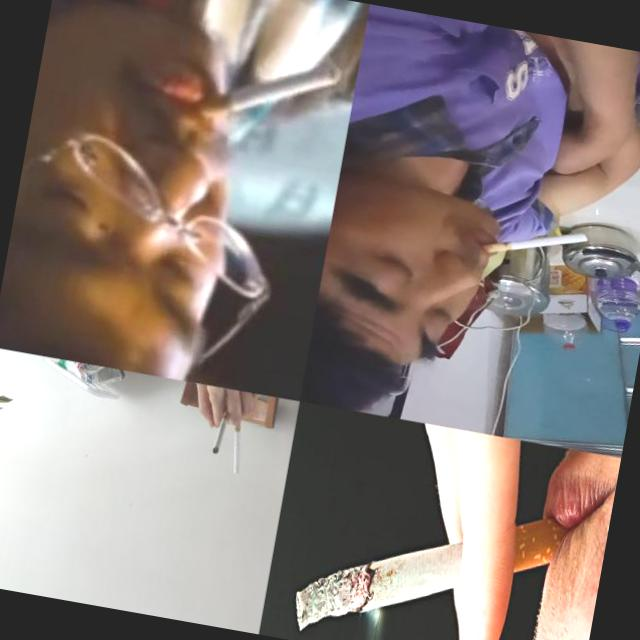cigarette: (288, 463, 585, 640), (191, 38, 343, 140), (480, 216, 589, 270), (223, 410, 250, 474), (210, 402, 232, 455)
